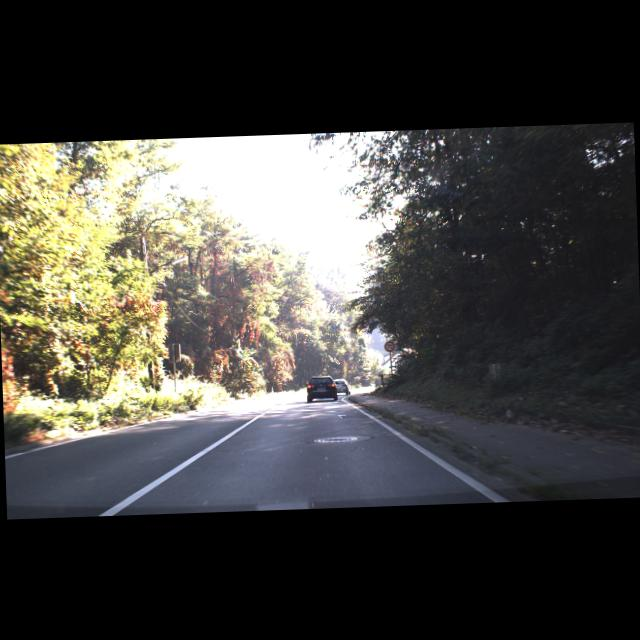prohibitory: (384, 340, 394, 351)
